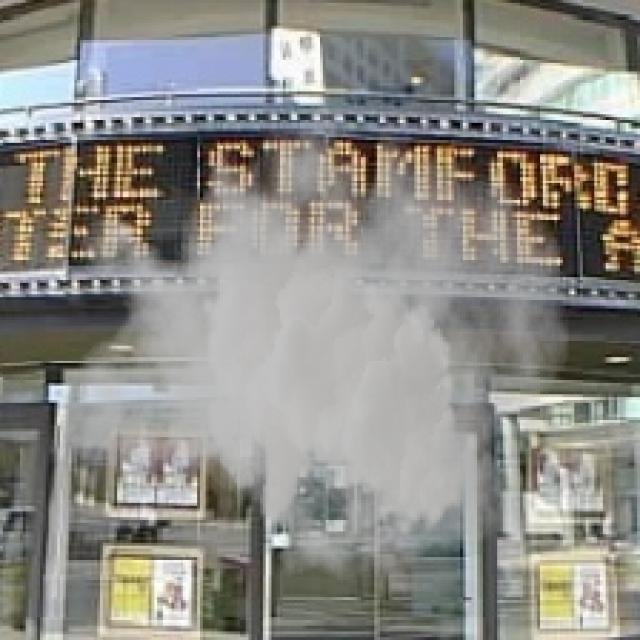Smoke: (57, 68, 572, 598)
